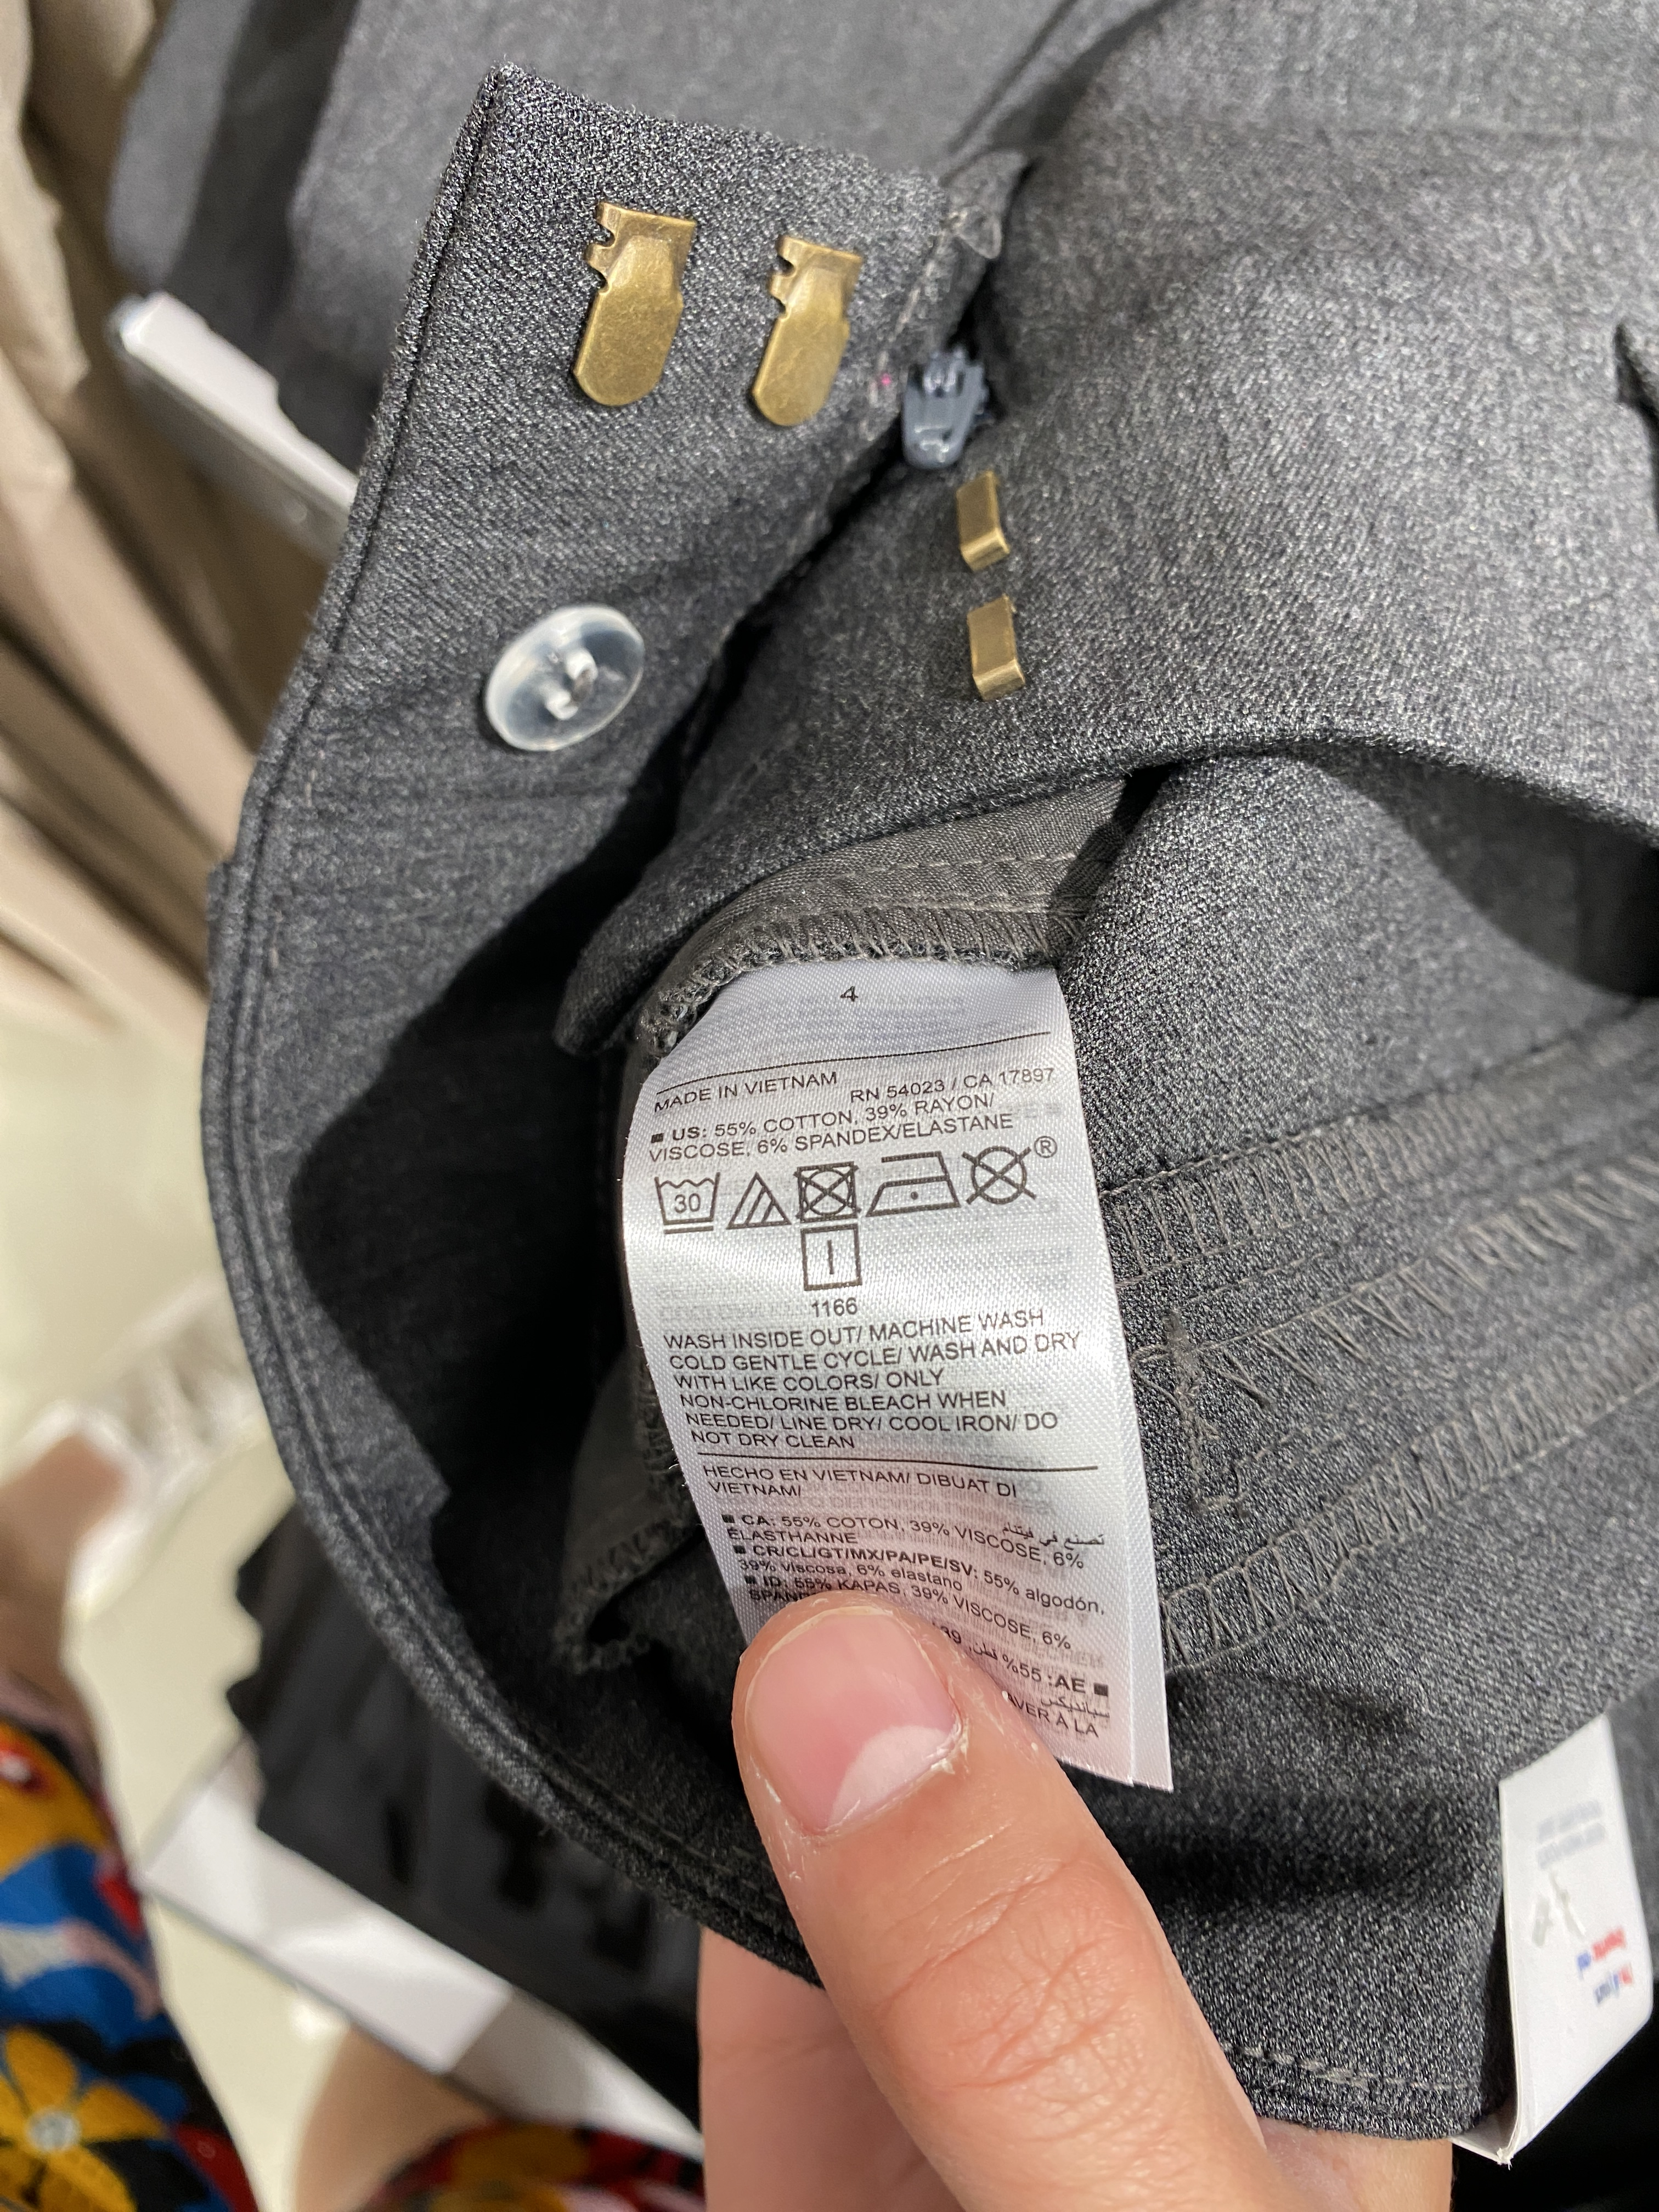tag: (624, 951, 1190, 1801)
